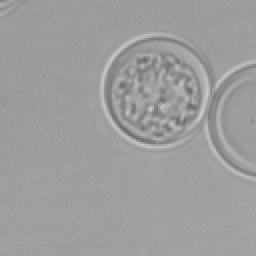picoshell: (100, 32, 212, 148), (204, 62, 254, 180)
